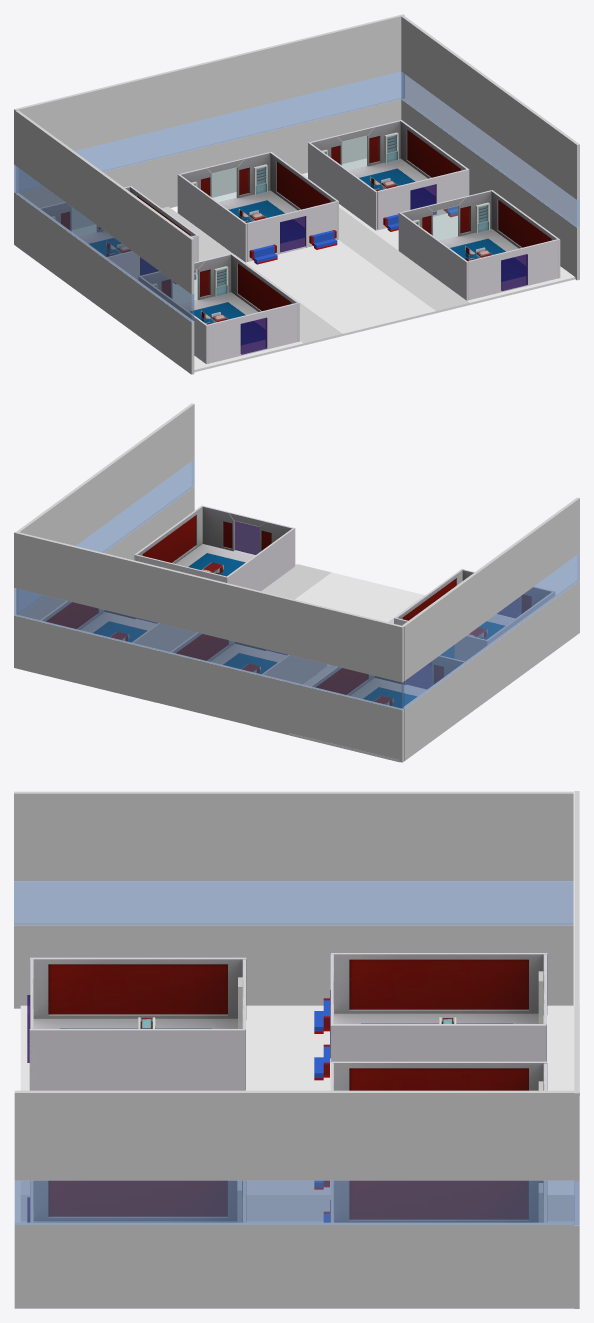
The picture shows the model from 3 angles, top to bottom: view 1: azimuth 30°, elevation 25°; view 2: azimuth 150°, elevation 25°; view 3: azimuth 270°, elevation 25°; orthographic projection. The views are drawn at different scales.
Parts seen in each view (by area): view 1: pCube21, pCube19, pCube20, pCube1, PAREDE_TRAS2, PAREDE_TRAS4, PAREDE_TRAS5, PAREDE_TRAS3, polySurface22, polySurface23, polySurface20, polySurface21 (+11 smaller); view 2: pCube21, pCube19, pCube20, PAREDE_TRAS2, pCube1, PAREDE_TRAS4, PAREDE_TRAS5, PAREDE_TRAS3, polySurface22, polySurface18, polySurface17, PORTA11 (+2 smaller); view 3: pCube20, pCube19, PAREDE_TRAS3, pCube1, polySurface16, PAREDE_TRAS5, PAREDE_TRAS2, polySurface17, PAREDE_TRAS4, pCube21, polySurface18.
Boxes of the visible parts, x1,y1,x2,y2 form: pCube21: (14, 14, 404, 245); pCube19: (15, 110, 194, 374); pCube20: (401, 16, 579, 280); pCube1: (72, 158, 575, 372); PAREDE_TRAS2: (398, 190, 560, 300); PAREDE_TRAS4: (177, 152, 338, 262); PAREDE_TRAS5: (308, 120, 469, 230); PAREDE_TRAS3: (138, 253, 299, 364); polySurface22: (468, 239, 558, 298); polySurface23: (207, 303, 297, 362); polySurface20: (247, 201, 337, 261); polySurface21: (377, 169, 467, 230); pCube21: (14, 531, 403, 762); pCube19: (402, 497, 579, 761); pCube20: (16, 403, 194, 619); PAREDE_TRAS2: (134, 505, 295, 591); pCube1: (61, 549, 514, 762); PAREDE_TRAS4: (171, 632, 326, 683); PAREDE_TRAS5: (41, 601, 195, 651); PAREDE_TRAS3: (394, 569, 554, 661); polySurface22: (202, 506, 292, 551); polySurface18: (350, 678, 426, 707); polySurface17: (311, 667, 374, 695); PORTA11: (234, 521, 259, 554); pCube20: (14, 1090, 574, 1308); pCube19: (14, 791, 573, 1008); PAREDE_TRAS3: (29, 957, 246, 1090); pCube1: (20, 1005, 579, 1222); polySurface16: (331, 953, 547, 1014); PAREDE_TRAS5: (334, 1181, 546, 1222); PAREDE_TRAS2: (34, 1181, 245, 1222); polySurface17: (330, 1024, 546, 1062); PAREDE_TRAS4: (331, 1061, 547, 1090); pCube21: (574, 791, 579, 1308); polySurface18: (334, 1013, 538, 1023).
Size of the model in its own units: 80.89 by 26.95 by 63.97.
Materials: 11 (6 with a texture image).
